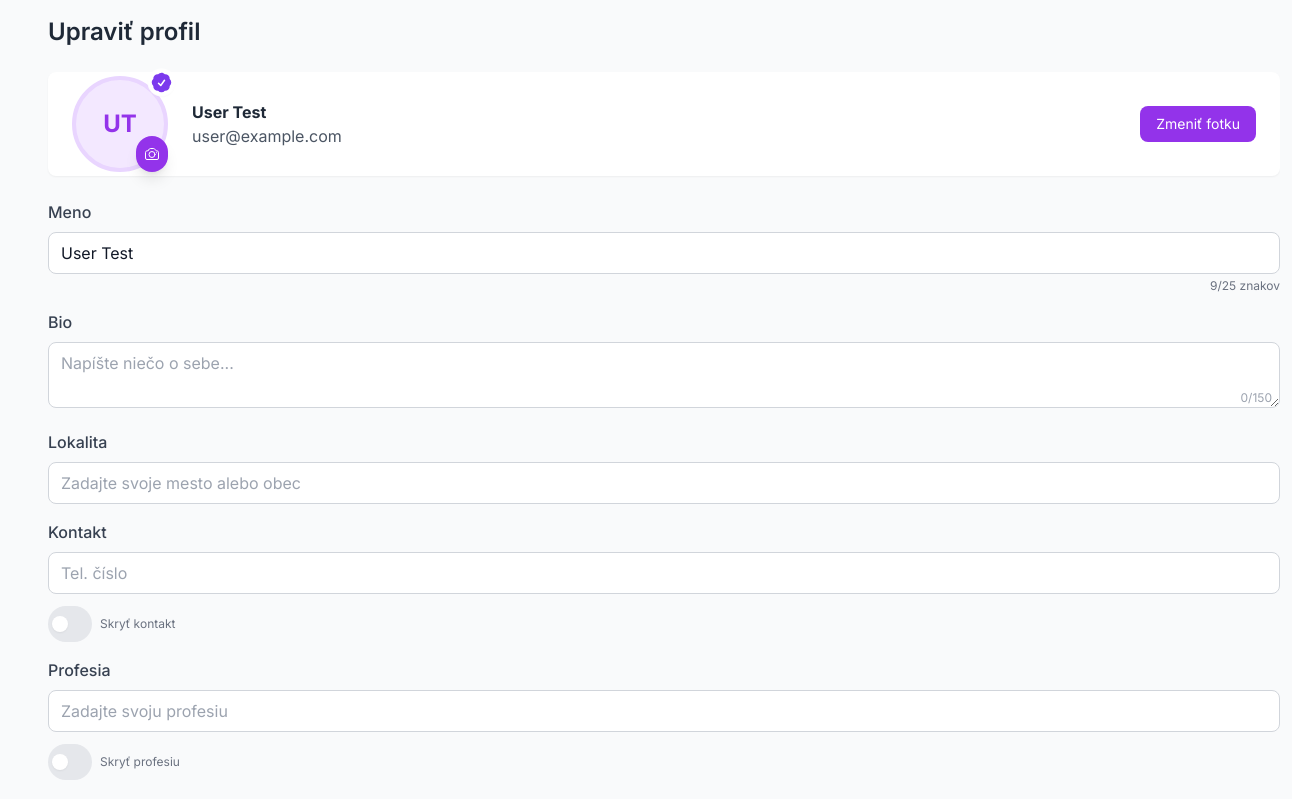
Test: ProfileEditForm coverage › closes modal on Zrušiť and allows open again
Step 1. Click the button "Zmeniť fotku" → (1198,124), box [1140,106,1256,142]
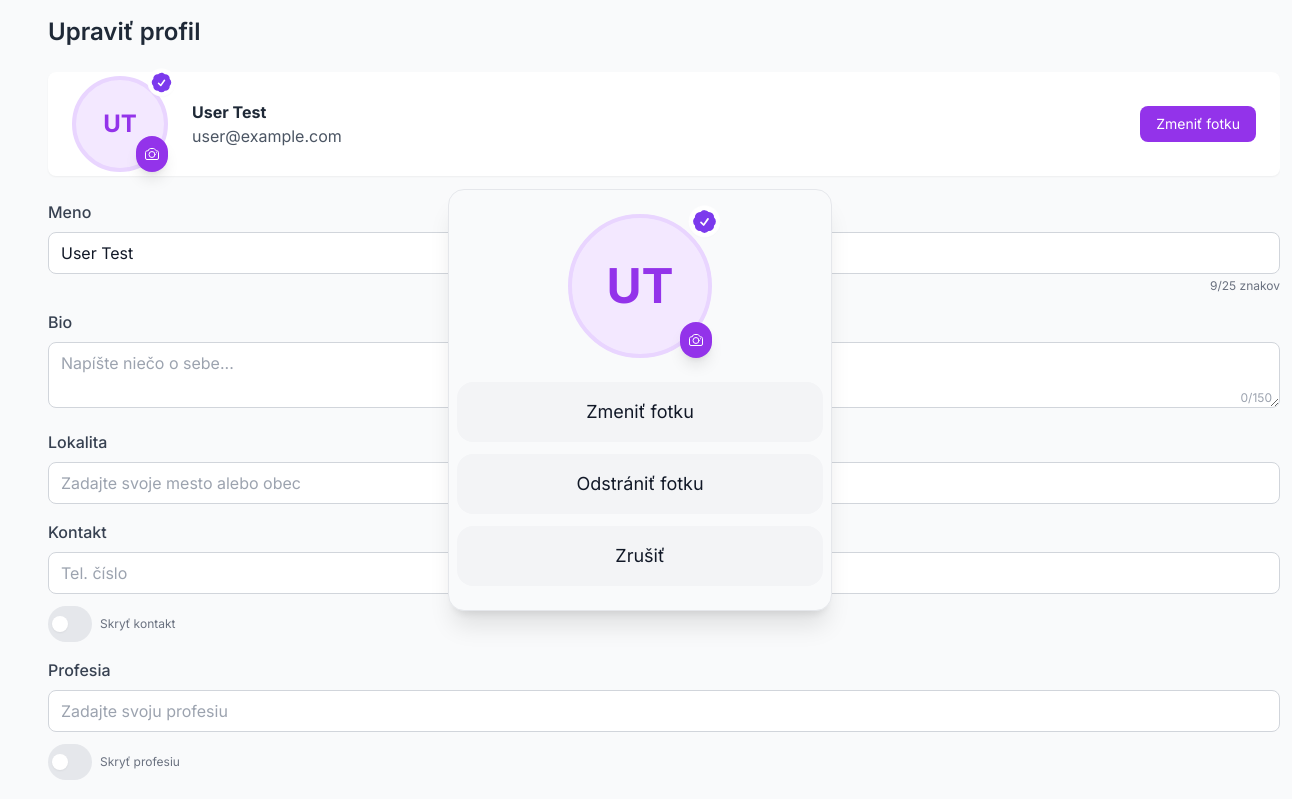
Step 2. Click the button "Zrušiť" → (640,556), box [457,526,823,586]
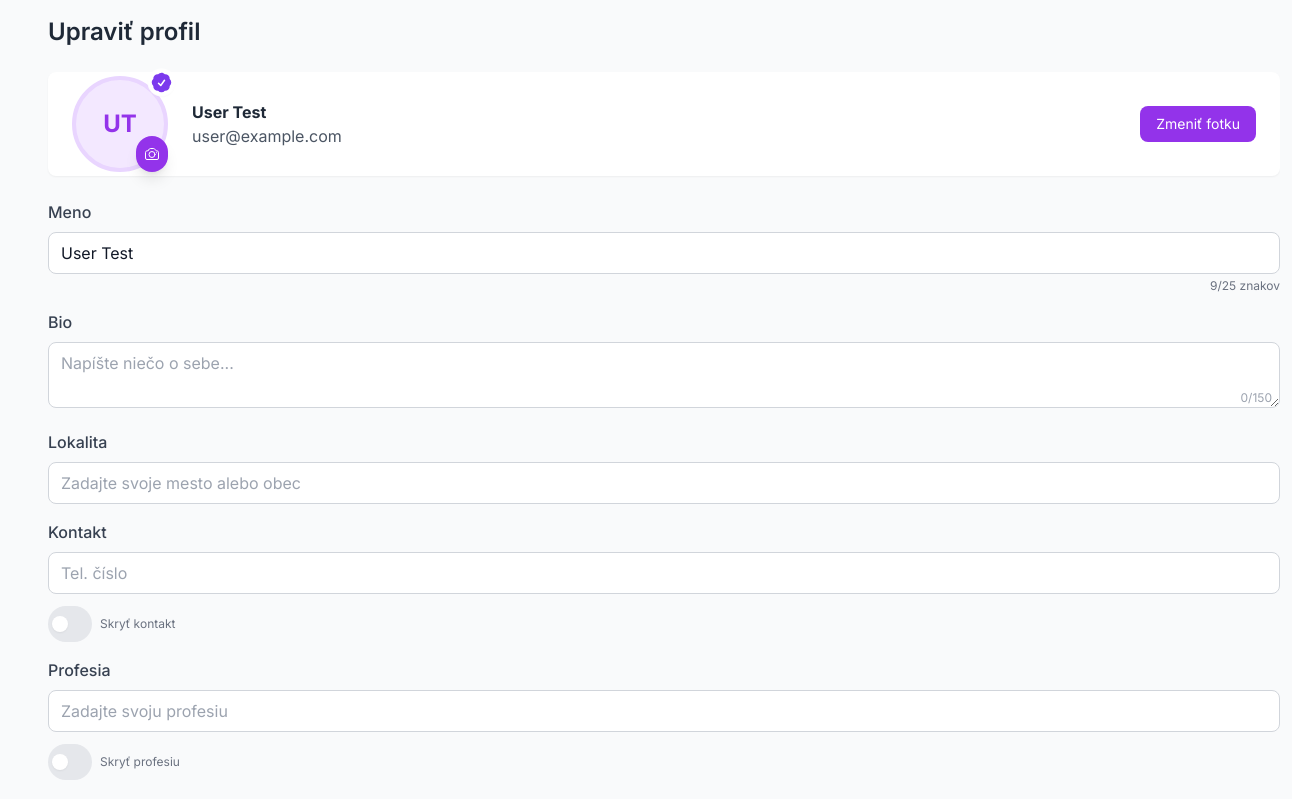
# Open again
Step 3. Click the button "Zmeniť fotku" → (1198,124), box [1140,106,1256,142]
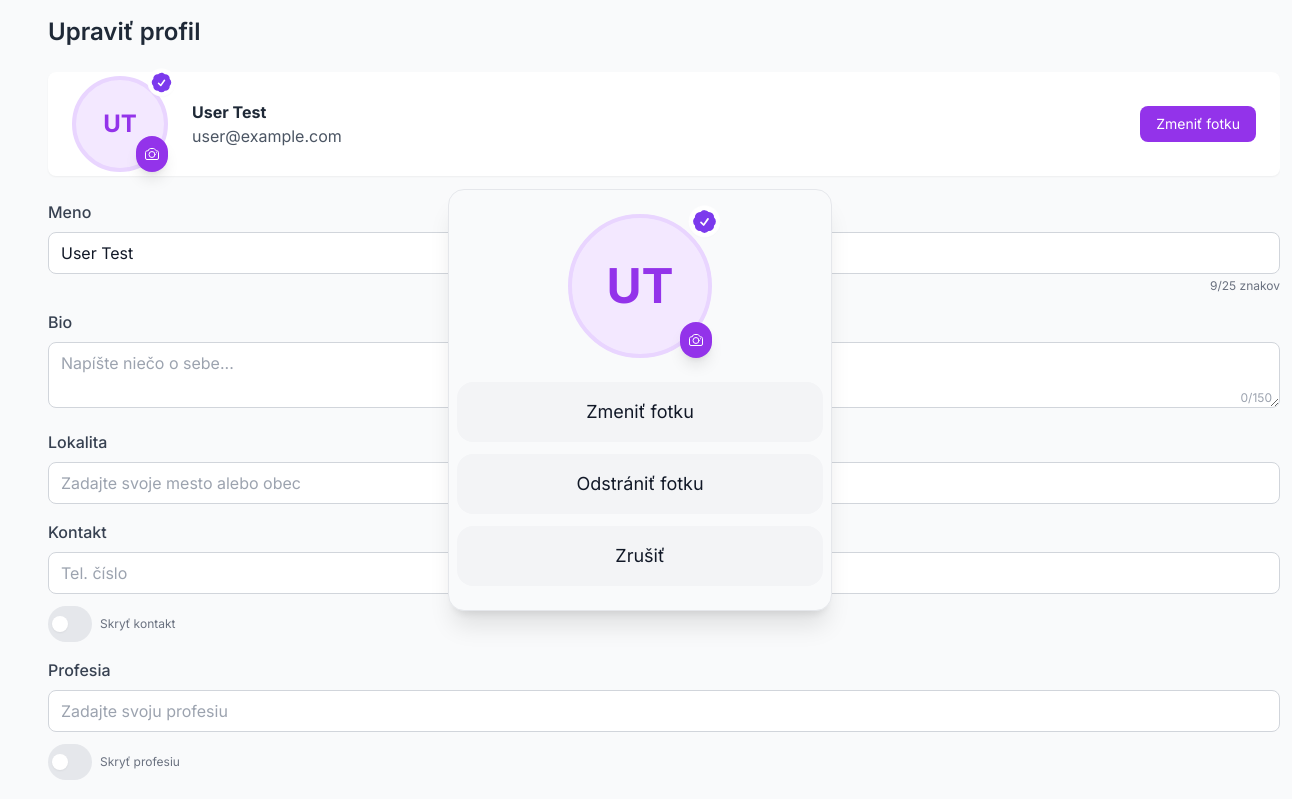
Expected: the button "Odstrániť fotku" is shown, [457,454,823,514]
